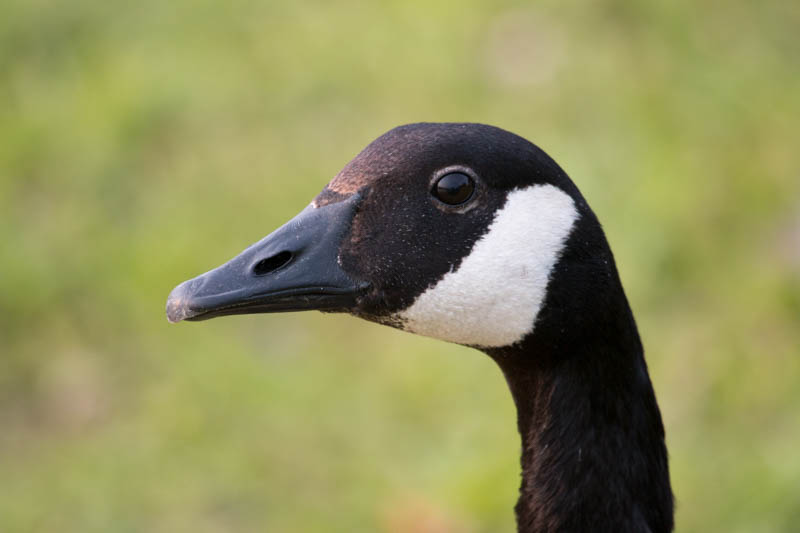goose-head: (162, 122, 610, 360)
